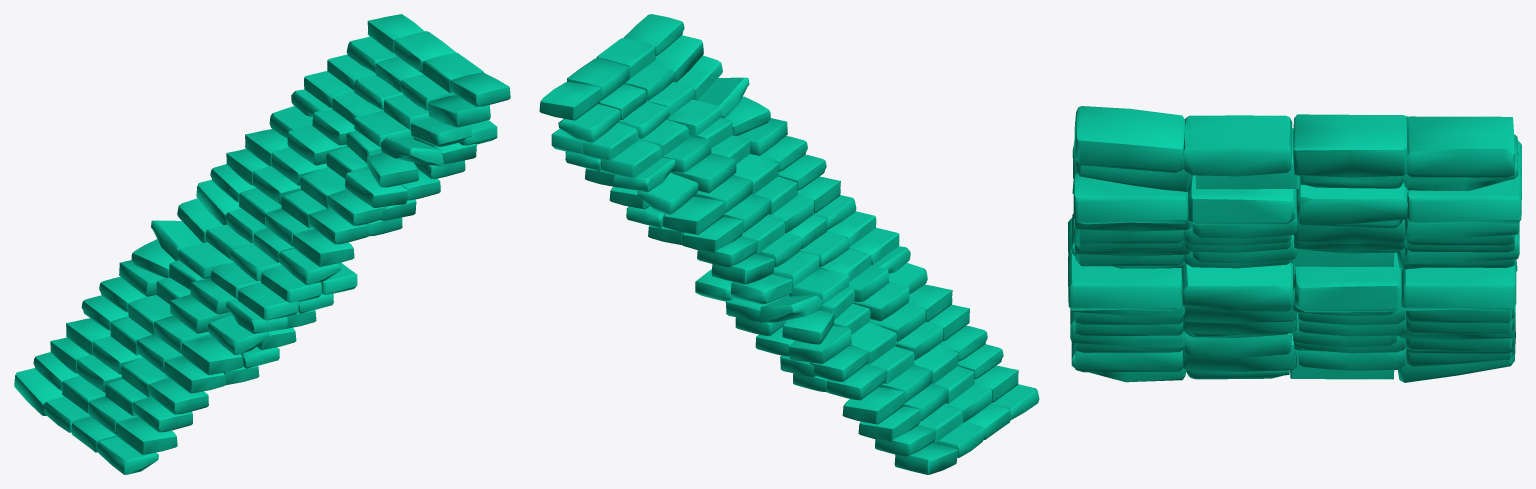
Rendered from stairs03.fbx.
The picture shows the model from 3 angles, left to right: view 1: azimuth 30°, elevation 25°; view 2: azimuth 150°, elevation 25°; view 3: azimuth 270°, elevation 25°; orthographic projection. The views are drawn at different scales.
Parts seen in each view (by area): view 1: basic_stairs03; view 2: basic_stairs03; view 3: basic_stairs03.
Part boxes in pixels (x1,y1,x2,y2): basic_stairs03: [14, 14, 510, 474]; basic_stairs03: [539, 14, 1039, 474]; basic_stairs03: [1068, 106, 1521, 382].
Size of the model in its own units: 7.07 by 5.15 by 3.58.
